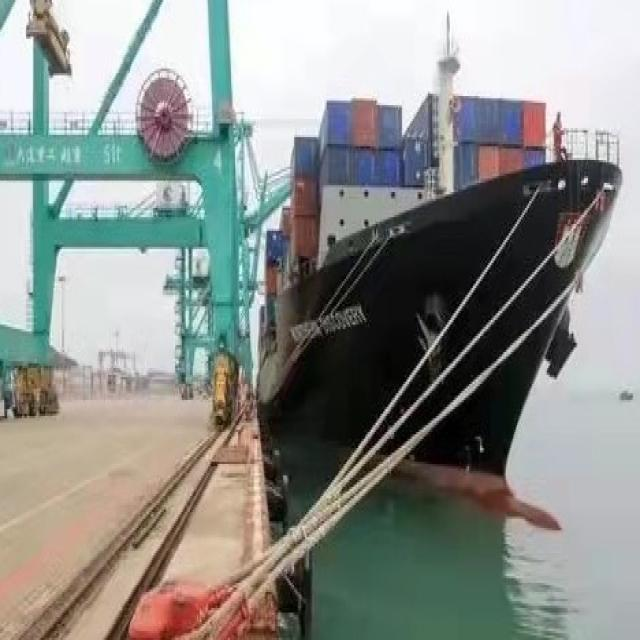cargoship: (254, 70, 618, 530)
